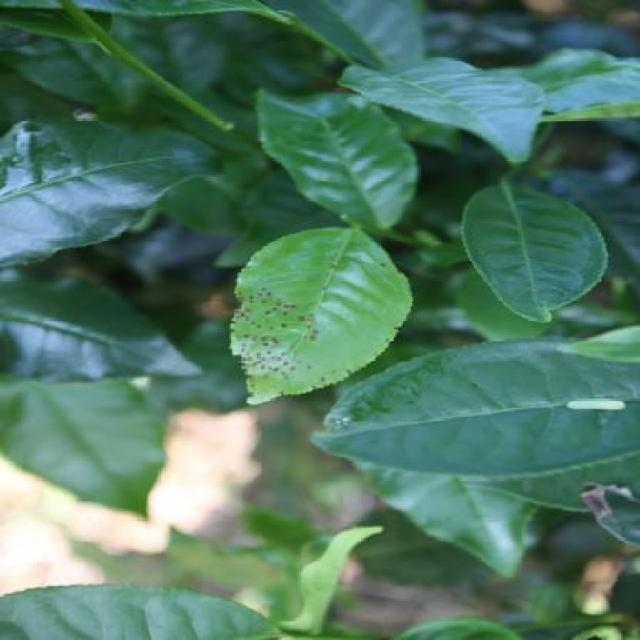Tea Mosquito bug infested leaf: (238, 222, 410, 410)
